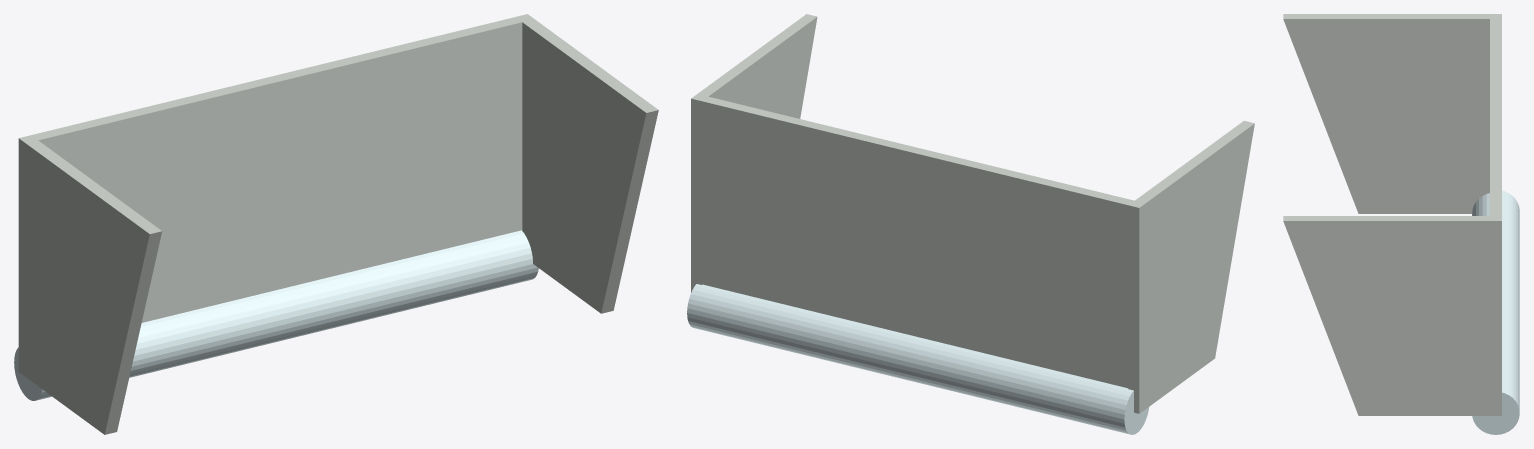
The model's file is intake.fbx.
The picture shows the model from 3 angles, left to right: view 1: azimuth 30°, elevation 25°; view 2: azimuth 150°, elevation 25°; view 3: azimuth 270°, elevation 25°; orthographic projection. The views are drawn at different scales.
Parts seen in each view (by area): view 1: BackBoard, LeftGuard, RightGuard, Roller; view 2: BackBoard, LeftGuard, Roller, RightGuard; view 3: RightGuard, LeftGuard, Roller, BackBoard.
Part boxes in pixels (x1,y1,x2,y2): BackBoard: (25, 15, 528, 322); LeftGuard: (18, 136, 162, 434); RightGuard: (522, 14, 658, 313); Roller: (14, 230, 538, 400); BackBoard: (697, 95, 1139, 388); LeftGuard: (1128, 121, 1254, 413); Roller: (687, 284, 1149, 434); RightGuard: (691, 14, 817, 292); RightGuard: (1283, 216, 1501, 415); LeftGuard: (1283, 14, 1501, 213); Roller: (1472, 190, 1519, 434); BackBoard: (1490, 16, 1501, 218).
Size of the model in its own units: 410 by 200 by 198.
